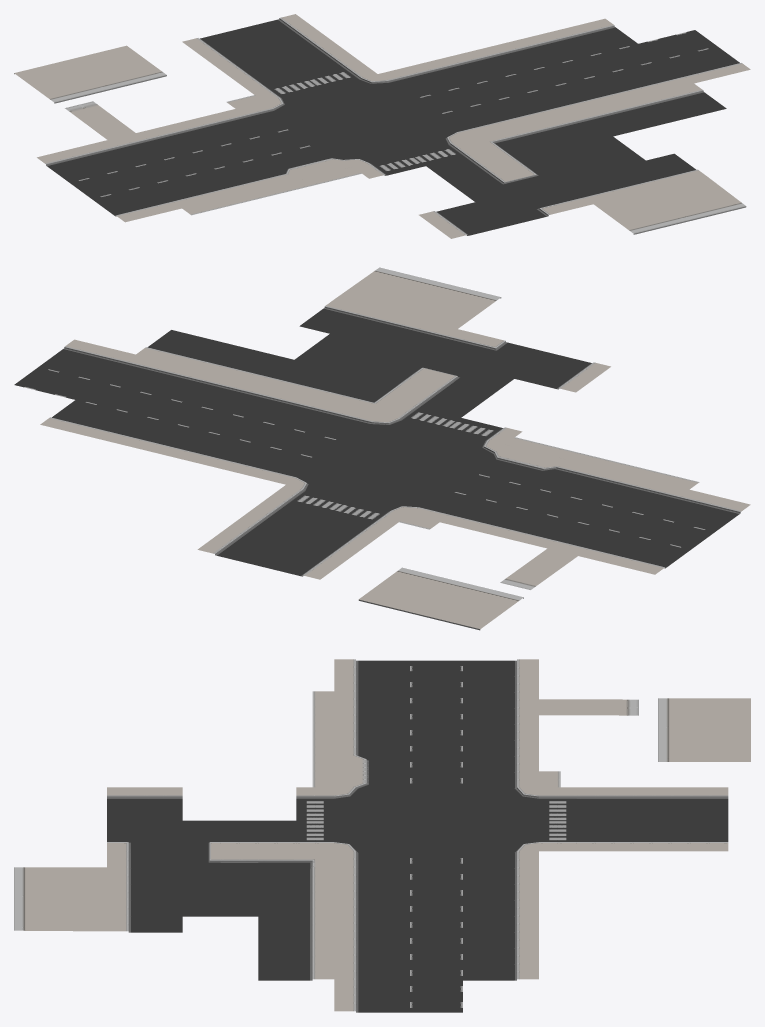
Rendered from Level11.FBX.
The picture shows the model from 3 angles, top to bottom: view 1: azimuth 30°, elevation 25°; view 2: azimuth 150°, elevation 25°; view 3: azimuth 270°, elevation 25°; orthographic projection. The views are drawn at different scales.
Visible parts, largest first — view 1: _AllRoads_L11; view 2: _AllRoads_L11; view 3: _AllRoads_L11.
Boxes of the visible parts, <box> form: _AllRoads_L11: <box>14,14,750,238</box>; _AllRoads_L11: <box>14,267,750,630</box>; _AllRoads_L11: <box>14,659,750,1012</box>.
Size of the model in its own units: 220 by 0.3896 by 195.
